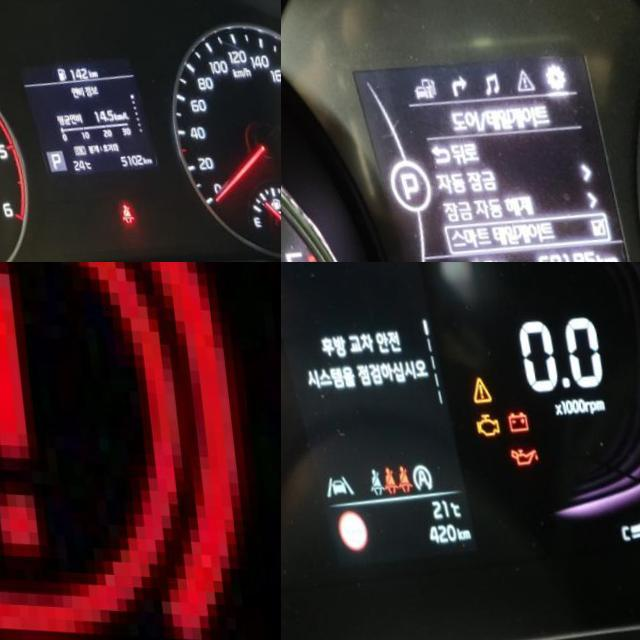Central Warning lamp: (460, 368, 484, 399)
